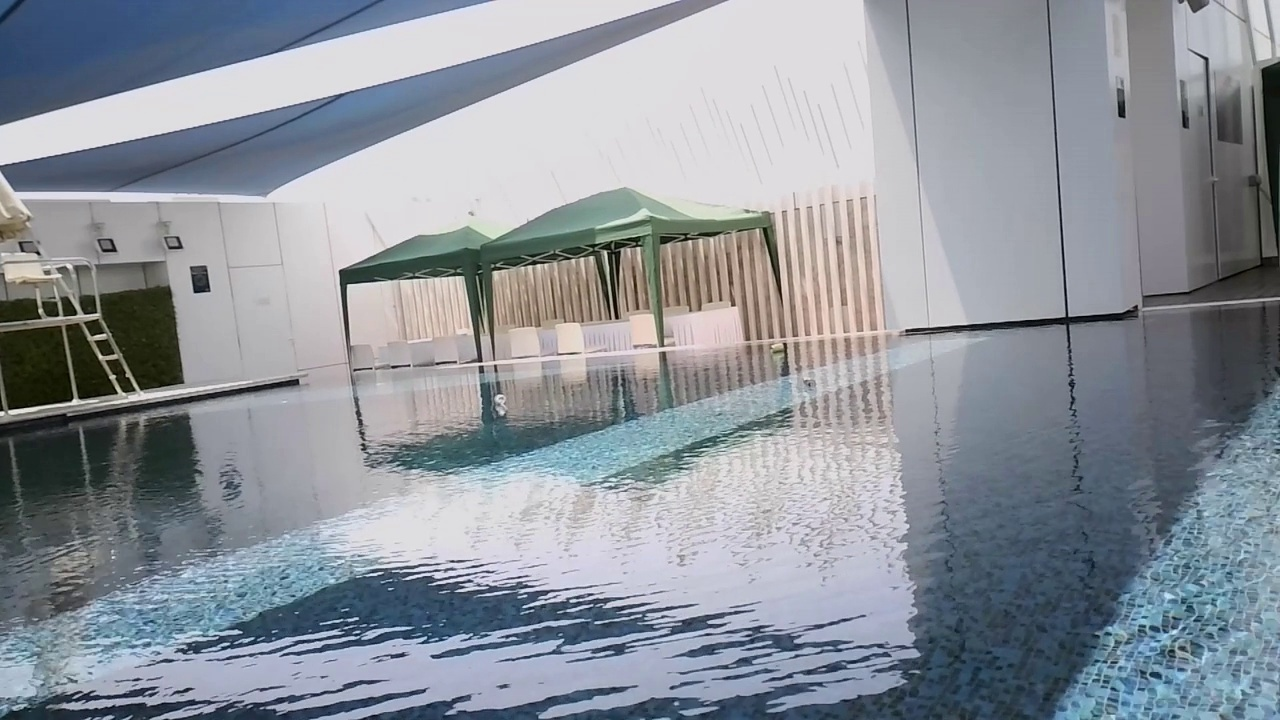debris: (491, 391, 509, 409), (768, 340, 788, 356), (799, 374, 817, 391)
